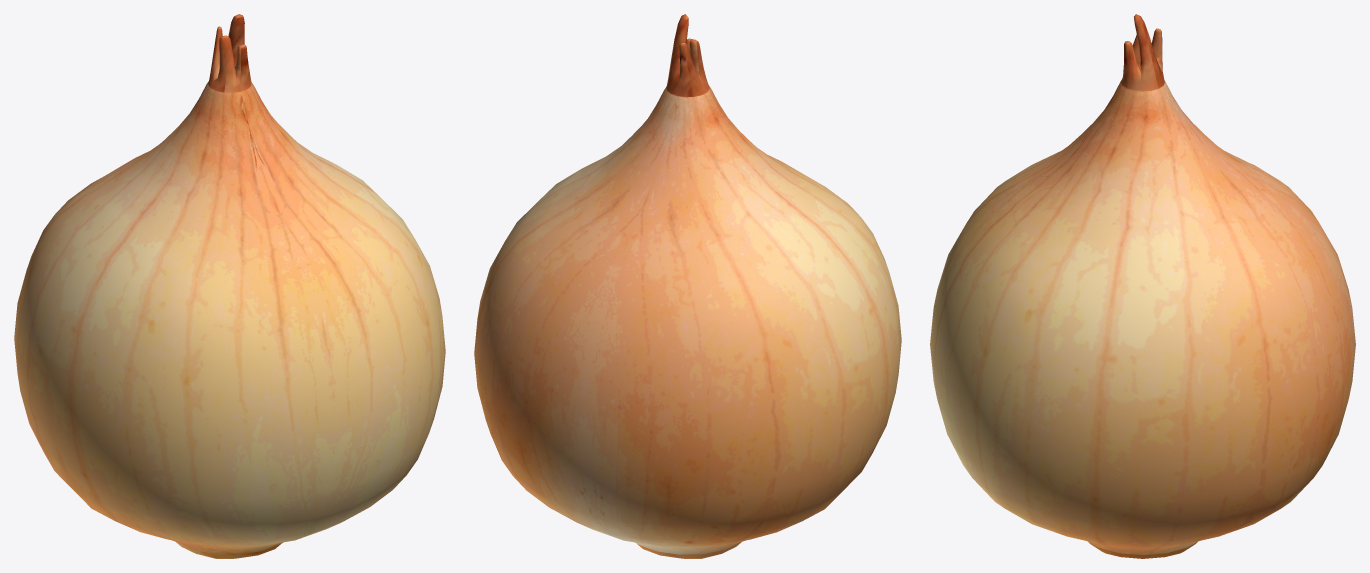
File: Onion.fbx
3 views of the same model, side by side, from view 1: azimuth 30°, elevation 25°; view 2: azimuth 150°, elevation 25°; view 3: azimuth 270°, elevation 25° (orthographic).
Parts seen in each view (by area): view 1: Cube; view 2: Cube; view 3: Cube.
Boxes of the visible parts, left/top/right/bottom form: Cube: left=14, top=14, right=445, bottom=558; Cube: left=474, top=14, right=901, bottom=558; Cube: left=930, top=14, right=1355, bottom=558.
Bounding box in the file's own units: 160 × 220 × 160.
1 material, 1 textured.
